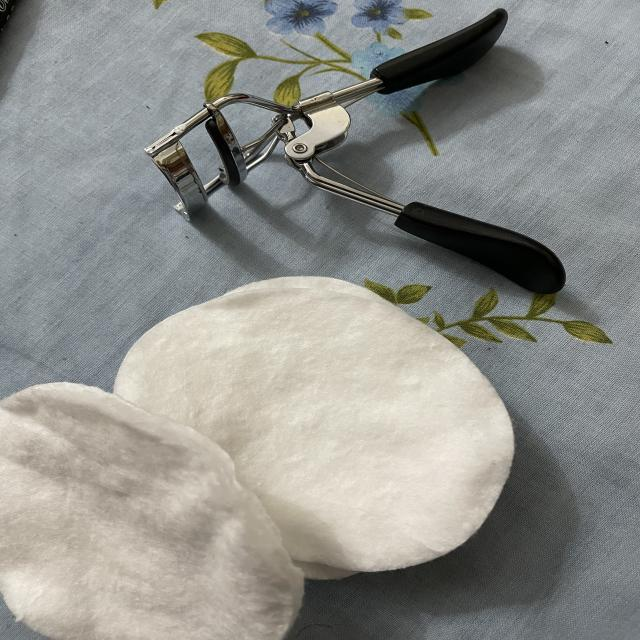eyelash curler: (133, 1, 572, 294)
nail polish remover: (0, 266, 549, 638)
